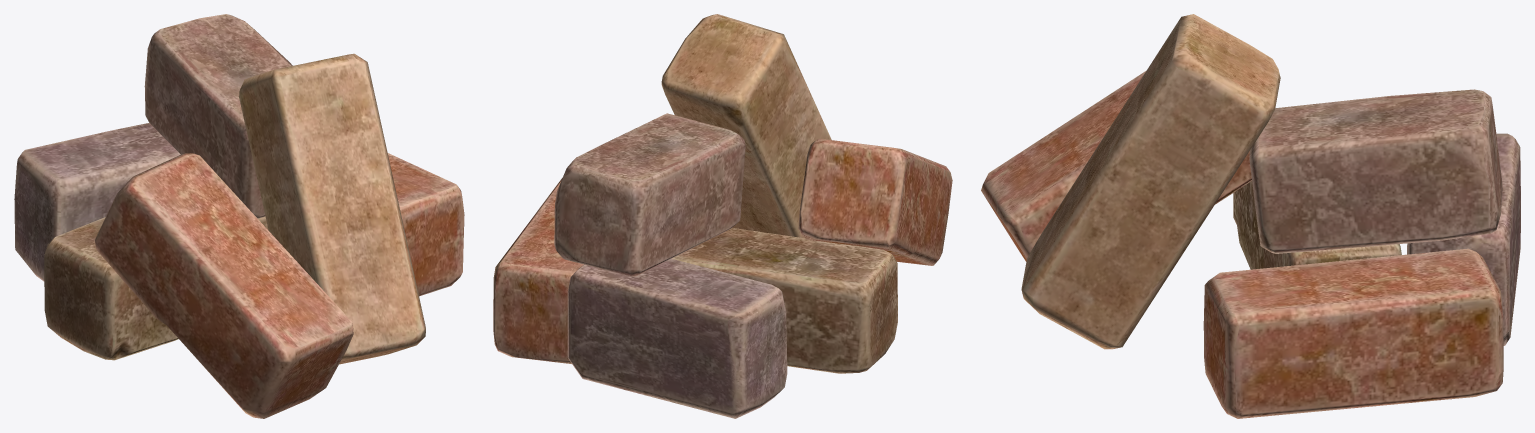
3 views of the same model, side by side, from view 1: azimuth 30°, elevation 25°; view 2: azimuth 150°, elevation 25°; view 3: azimuth 270°, elevation 25° (orthographic). The views are drawn at different scales.
Parts seen in each view (by area): view 1: SM_Human_Ruins_Brick_Dmg_08_LOD0; view 2: SM_Human_Ruins_Brick_Dmg_08_LOD0; view 3: SM_Human_Ruins_Brick_Dmg_08_LOD0.
Part boxes in pixels (bbox=[...]): SM_Human_Ruins_Brick_Dmg_08_LOD0: bbox=[14, 14, 464, 418]; SM_Human_Ruins_Brick_Dmg_08_LOD0: bbox=[493, 14, 952, 418]; SM_Human_Ruins_Brick_Dmg_08_LOD0: bbox=[981, 14, 1520, 418].
Bounding box in the file's own units: 0.5043 × 0.3578 × 0.5833.
Materials: 1 (1 with a texture image).
